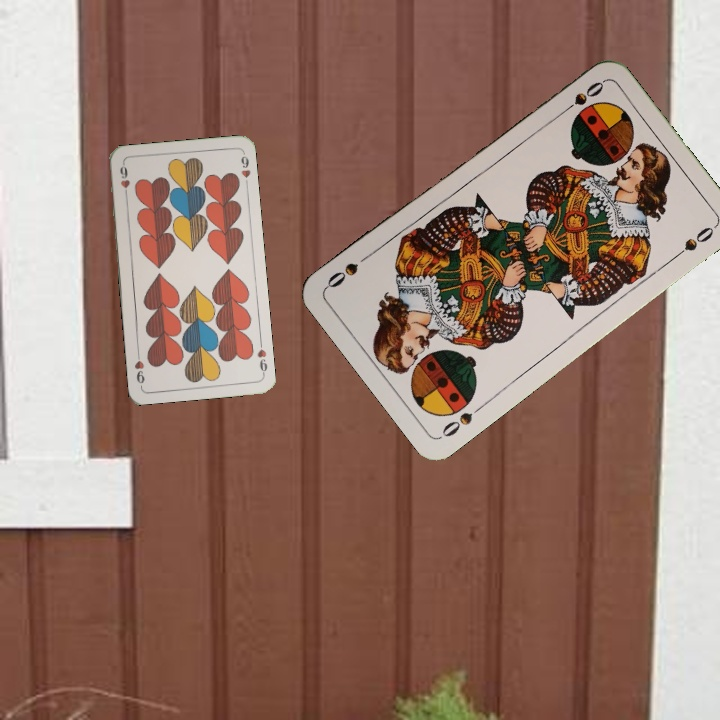H9: (116, 160, 133, 201), (253, 337, 270, 378)
SO: (555, 77, 607, 118), (438, 400, 488, 440)
